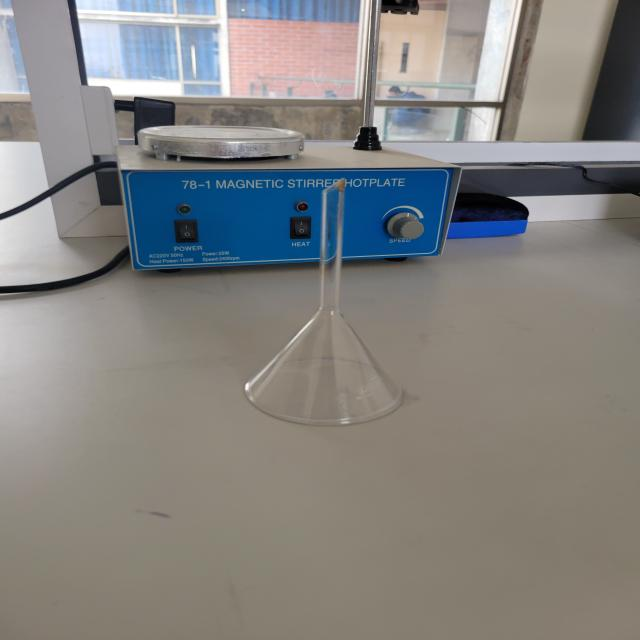Funnel: (208, 135, 460, 468)
